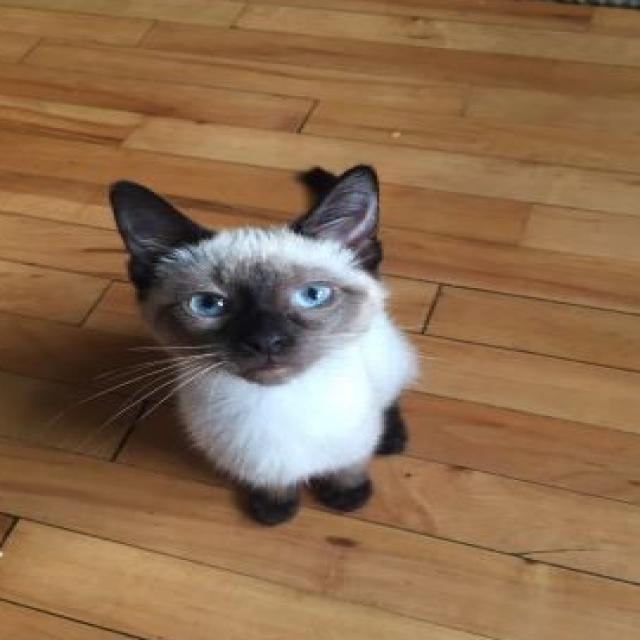Siamese: (104, 163, 430, 532)
